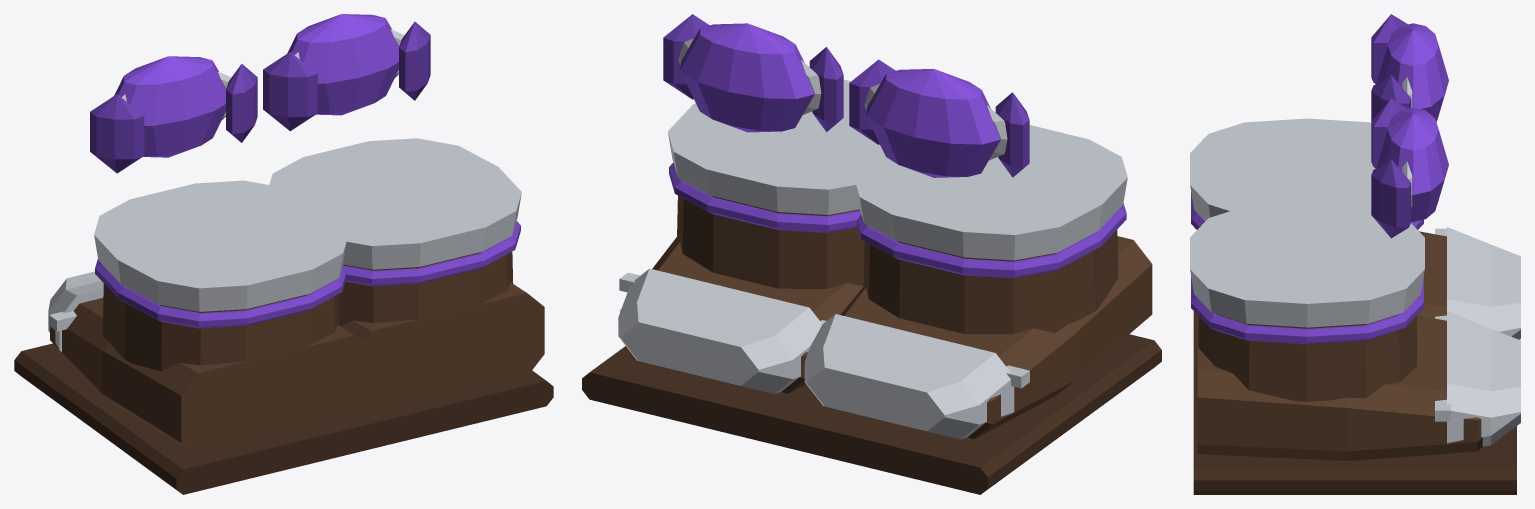
Rendered from look3_shoes_bow_epic.fbx.
3 views of the same model, side by side, from view 1: azimuth 30°, elevation 25°; view 2: azimuth 150°, elevation 25°; view 3: azimuth 270°, elevation 25° (orthographic). The views are drawn at different scales.
Visible parts, largest first — view 1: Greave_L, Greave_R, Boot_L, Boot_R; view 2: Greave_L, Boot_L, Greave_R, Boot_R; view 3: Greave_R, Boot_R, Greave_L, Boot_L.
Part boxes in pixels (bbox=[...]): Greave_L: bbox=[90, 56, 347, 371]; Greave_R: bbox=[263, 14, 521, 326]; Boot_L: bbox=[14, 271, 380, 494]; Boot_R: bbox=[341, 282, 553, 448]; Greave_L: bbox=[849, 59, 1127, 334]; Boot_L: bbox=[768, 236, 1161, 494]; Greave_R: bbox=[663, 14, 885, 288]; Boot_R: bbox=[582, 237, 863, 449]; Greave_R: bbox=[1190, 98, 1448, 401]; Boot_R: bbox=[1193, 311, 1520, 494]; Greave_L: bbox=[1190, 14, 1448, 229]; Boot_L: bbox=[1193, 227, 1520, 384].
Bounding box in the file's own units: 220 × 185 × 166.
